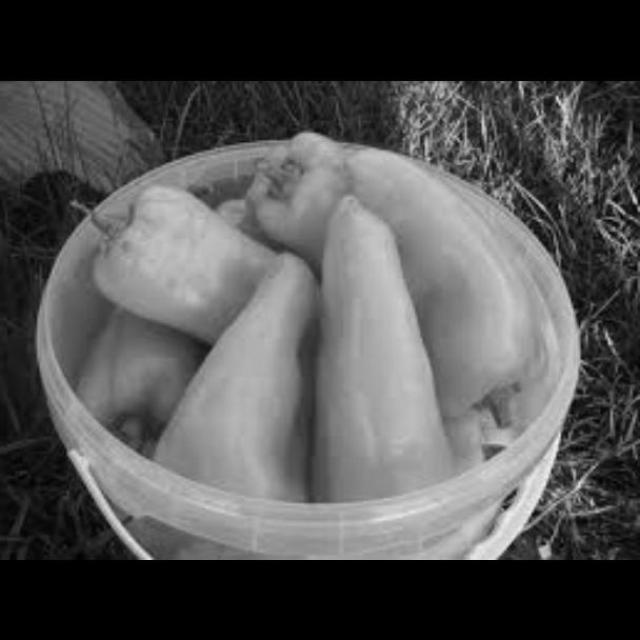ot chuong: (351, 143, 548, 409), (306, 181, 454, 512), (150, 242, 326, 499), (97, 182, 320, 336), (74, 288, 214, 440), (236, 127, 366, 245)
